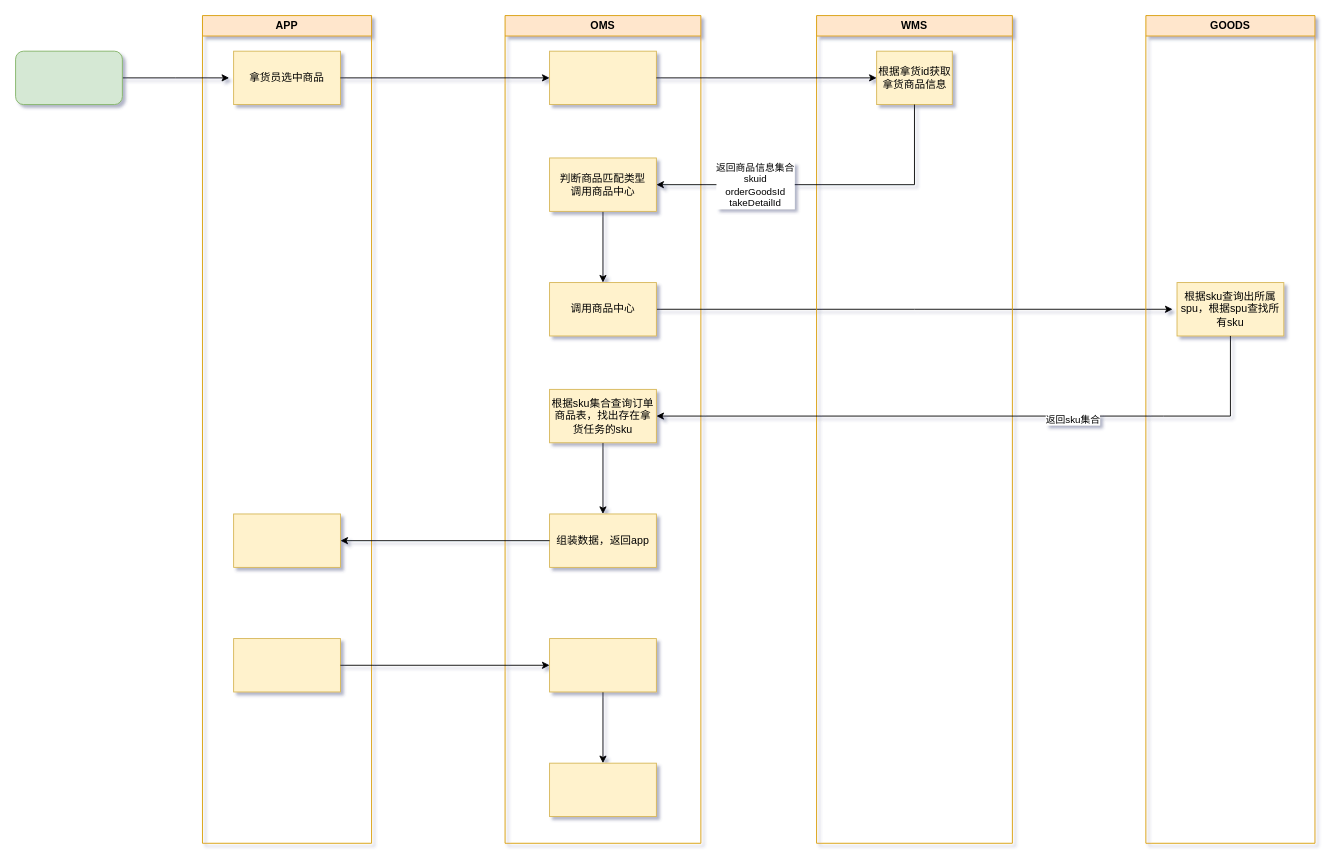
Image size: 1336x864. Some labels were removed from this diagram. The shapes that lost their labels are listed below. From the top down, each one's centre as x and y in pixels, then its label:
At [68,77]: "按SPU改价开始".
At [602,77]: "调用wms".
At [286,540]: "显示要修改的商品（名称尺寸价格）".
At [286,665]: "点击确定".
At [602,665]: "按sku改价".
At [602,789]: "走原来改价逻辑 （判断金额是否小于0 开关等条件）".
